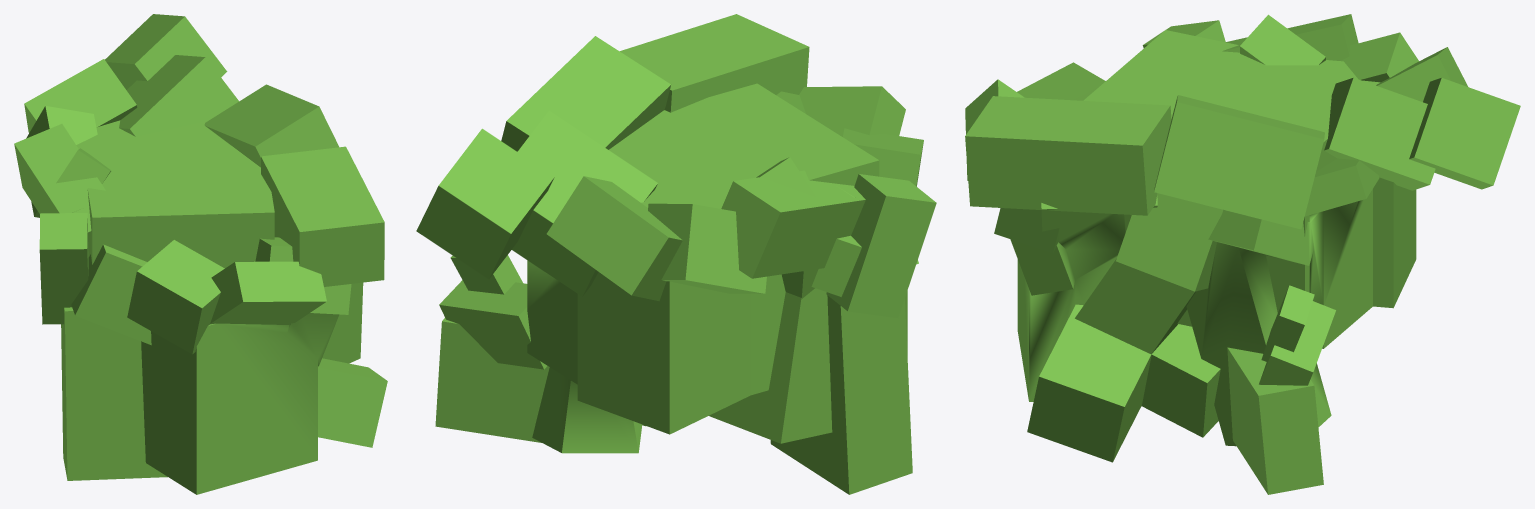
File: RubbleCouldron.fbx
The picture shows the model from 3 angles, left to right: view 1: azimuth 30°, elevation 25°; view 2: azimuth 150°, elevation 25°; view 3: azimuth 270°, elevation 25°; orthographic projection. The views are drawn at different scales.
Parts seen in each view (by area): view 1: ClusterCauldron.014; view 2: ClusterCauldron.014; view 3: ClusterCauldron.014.
Part boxes in pixels (bbox=[...]): ClusterCauldron.014: bbox=[14, 14, 387, 494]; ClusterCauldron.014: bbox=[416, 14, 936, 494]; ClusterCauldron.014: bbox=[965, 14, 1520, 494].
Bounding box in the file's own units: 1146 × 973 × 1314.
